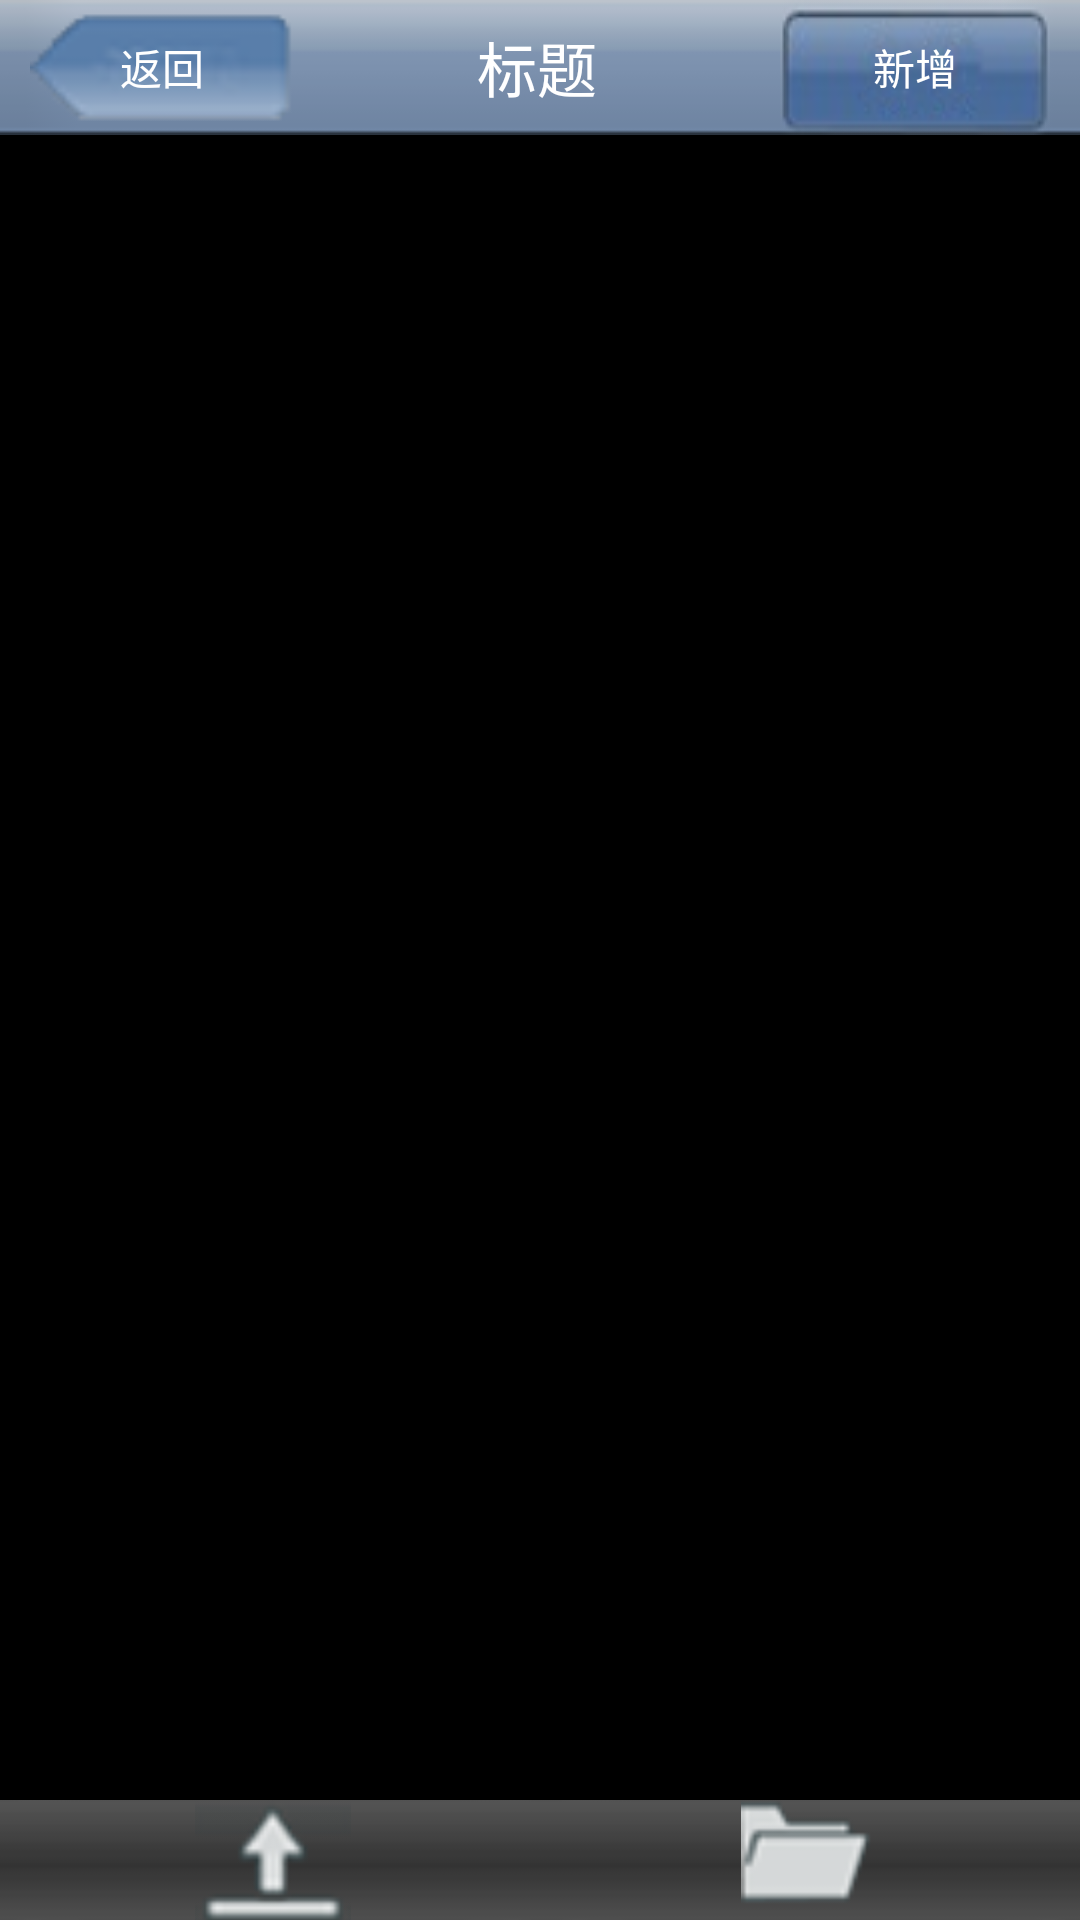

Icon click points for this 1080px×1920px phone screenshot, format [x,y]:
upload: [273,1860]
